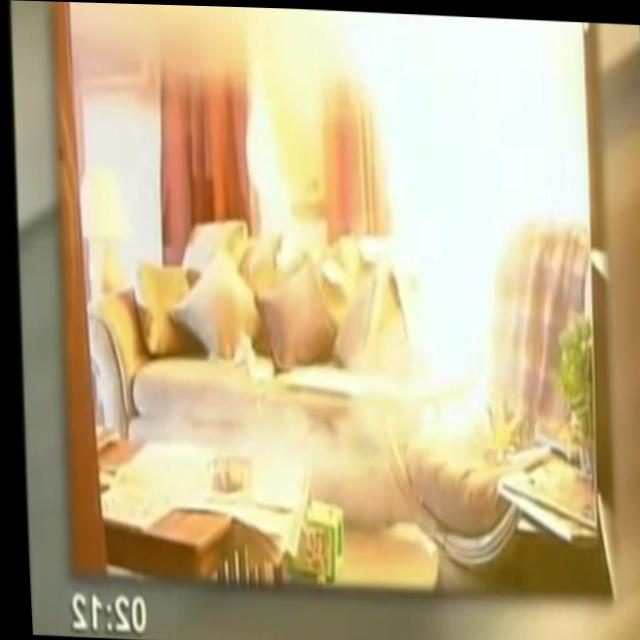fire: (384, 66, 513, 434)
